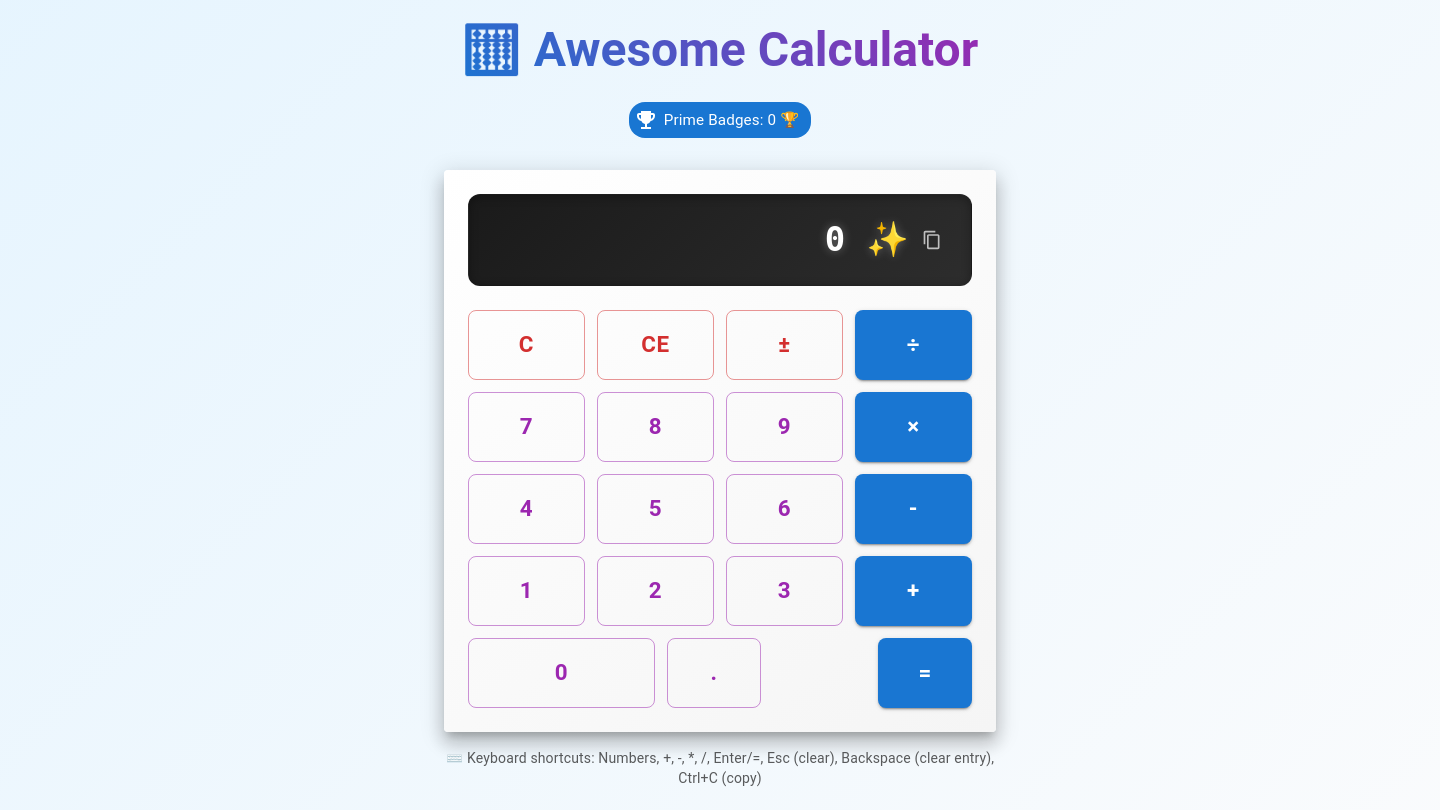
Test case: Calculator › Basic Functionality › displays numbers when clicked
Click the button "5" at (656, 509), box [597, 474, 714, 544]
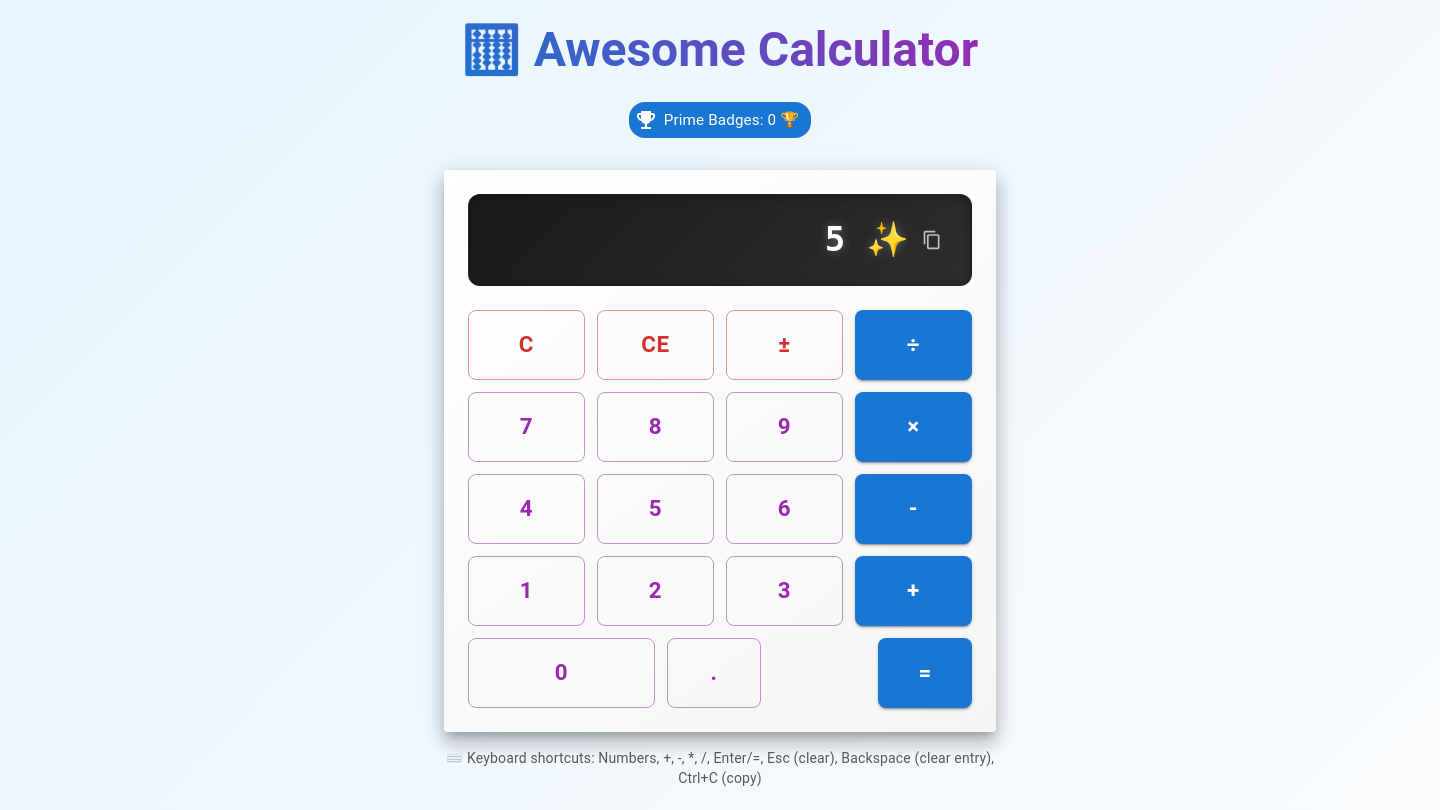
Expected: the text "5 ✨" is shown, [825, 219, 909, 261]
Click the button "3" at (784, 591), box [726, 556, 843, 626]
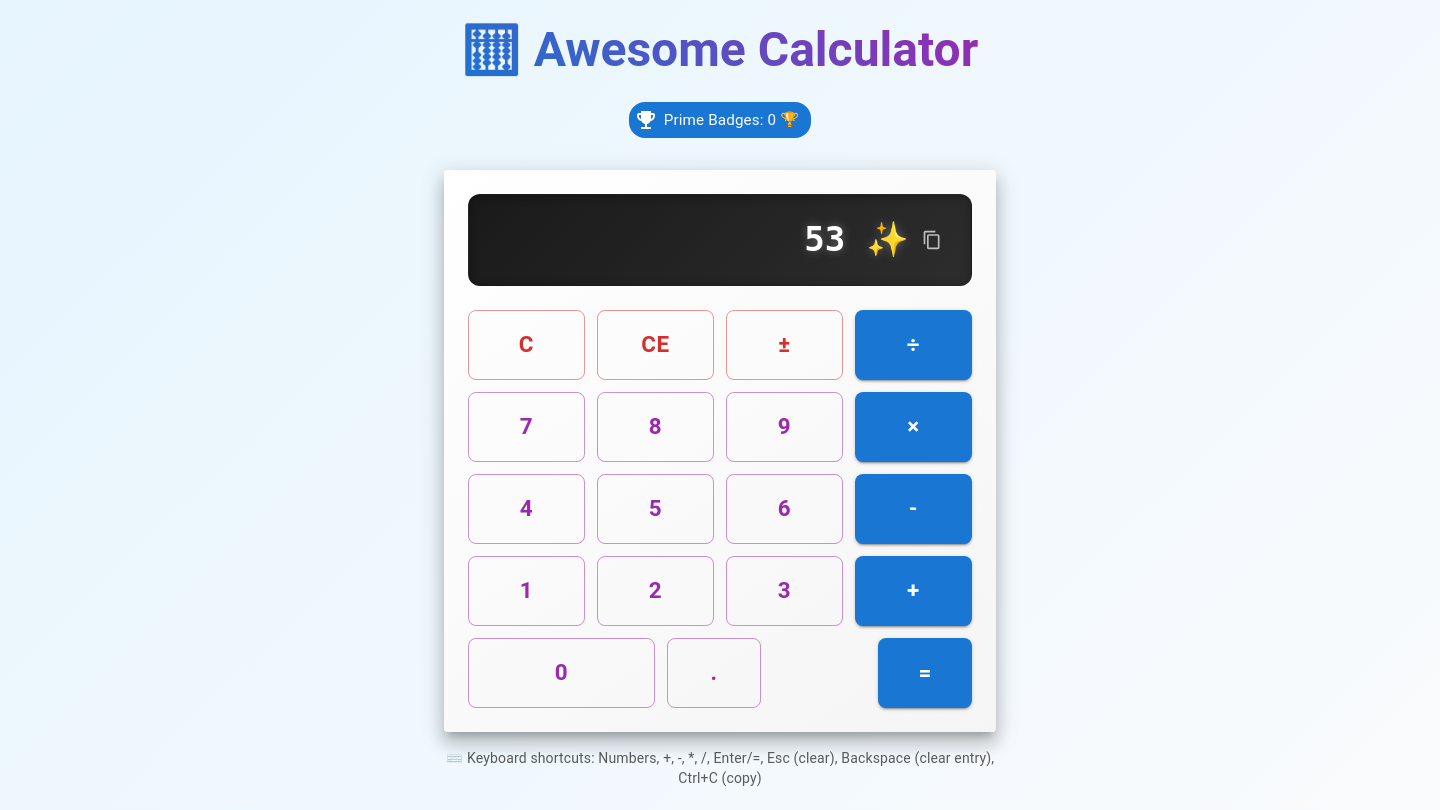
Expected: the text "53 ✨" is shown, [804, 219, 909, 261]
